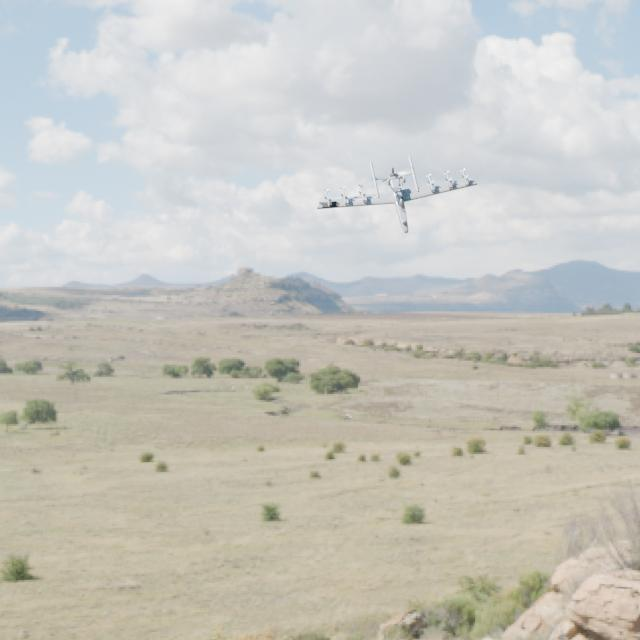Airaplan: (317, 156, 477, 233)
